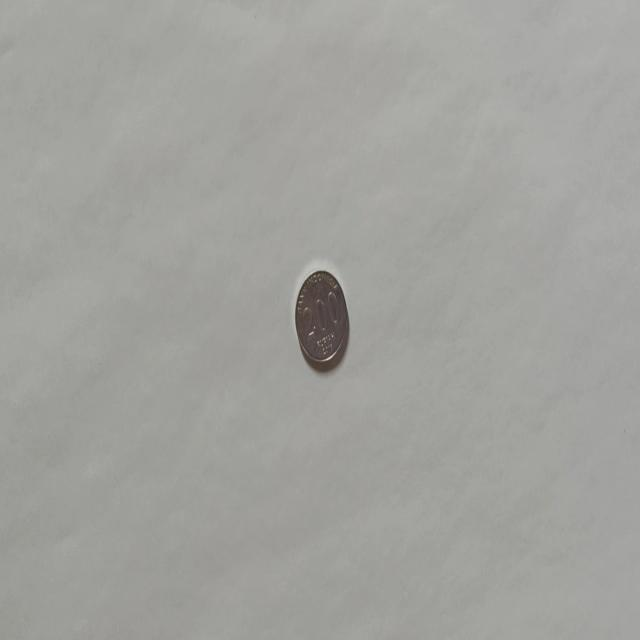dua ratus rupiah: (294, 268, 349, 368)
